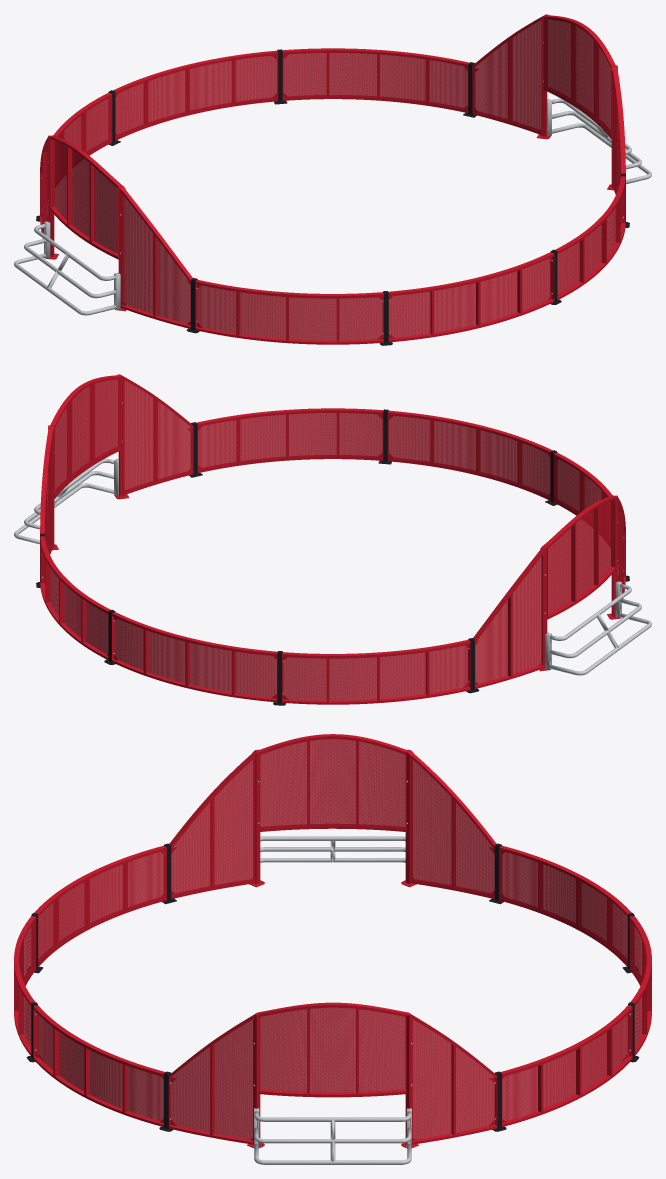
Rendered from panna-play-o1-v2.glb.
The picture shows the model from 3 angles, top to bottom: view 1: azimuth 30°, elevation 25°; view 2: azimuth 150°, elevation 25°; view 3: azimuth 270°, elevation 25°; orthographic projection. The views are drawn at different scales.
Parts seen in each view (by area): view 1: WEB_PO1_0_0_sheet, WEB_PO1_0_1_sheet, WEB_PO1_180_0_sheet, WEB_PO1_180_1_sheet, WEB_PO2L_east_sheet, WEB_PO3_east_sheet, WEB_PO2L_west_sheet, WEB_PO3_west_sheet, WEB_PO1_180_1_frame, WEB_PO1_180_0_frame, WEB_BR1_west_frame, WEB_PO3_west_frame (+13 smaller); view 2: WEB_PO1_180_2_sheet, WEB_PO1_180_1_sheet, WEB_PO1_0_2_sheet, WEB_PO1_0_1_sheet, WEB_PO2P_east_sheet, WEB_PO3_east_sheet, WEB_PO2P_west_sheet, WEB_PO3_west_sheet, WEB_PO1_0_1_frame, WEB_PO1_0_2_frame, WEB_BR1_west_frame, WEB_PO3_west_frame (+13 smaller); view 3: WEB_PO3_west_sheet, WEB_PO3_east_sheet, WEB_PO2L_west_sheet, WEB_PO2P_west_sheet, WEB_PO1_0_2_sheet, WEB_PO1_180_0_sheet, WEB_PO2L_east_sheet, WEB_PO2P_east_sheet, WEB_PO1_0_0_sheet, WEB_PO1_180_2_sheet, WEB_BR1_east_frame, WEB_PO1_180_2_frame (+14 smaller).
Boxes of the visible parts, left/top/right/bottom form: WEB_PO1_0_0_sheet: left=283, top=50, right=467, bottom=112; WEB_PO1_0_1_sheet: left=115, top=53, right=277, bottom=140; WEB_PO1_180_0_sheet: left=198, top=285, right=382, bottom=340; WEB_PO1_180_1_sheet: left=389, top=258, right=550, bottom=337; WEB_PO2L_east_sheet: left=472, top=19, right=541, bottom=134; WEB_PO3_east_sheet: left=544, top=18, right=610, bottom=135; WEB_PO2L_west_sheet: left=124, top=197, right=190, bottom=323; WEB_PO3_west_sheet: left=54, top=141, right=117, bottom=253; WEB_PO1_180_1_frame: left=388, top=252, right=554, bottom=342; WEB_PO1_180_0_frame: left=195, top=279, right=383, bottom=344; WEB_BR1_west_frame: left=14, top=221, right=120, bottom=315; WEB_PO3_west_frame: left=50, top=135, right=121, bottom=259; WEB_PO1_180_2_sheet: left=198, top=410, right=382, bottom=472; WEB_PO1_180_1_sheet: left=388, top=413, right=550, bottom=500; WEB_PO1_0_2_sheet: left=283, top=645, right=467, bottom=700; WEB_PO1_0_1_sheet: left=115, top=618, right=276, bottom=697; WEB_PO2P_east_sheet: left=124, top=379, right=193, bottom=494; WEB_PO3_east_sheet: left=55, top=378, right=121, bottom=495; WEB_PO2P_west_sheet: left=475, top=557, right=541, bottom=683; WEB_PO3_west_sheet: left=548, top=501, right=611, bottom=613; WEB_PO1_0_1_frame: left=111, top=612, right=277, bottom=702; WEB_PO1_0_2_frame: left=282, top=639, right=470, bottom=704; WEB_BR1_west_frame: left=545, top=581, right=651, bottom=675; WEB_PO3_west_frame: left=544, top=495, right=615, bottom=619; WEB_PO3_west_sheet: left=260, top=736, right=405, bottom=831; WEB_PO3_east_sheet: left=260, top=1007, right=405, bottom=1092; WEB_PO2L_west_sheet: left=171, top=757, right=255, bottom=896; WEB_PO2P_west_sheet: left=410, top=757, right=494, bottom=896; WEB_PO1_0_2_sheet: left=499, top=848, right=627, bottom=966; WEB_PO1_180_0_sheet: left=38, top=848, right=166, bottom=966; WEB_PO2L_east_sheet: left=413, top=1019, right=494, bottom=1139; WEB_PO2P_east_sheet: left=171, top=1019, right=252, bottom=1139; WEB_PO1_0_0_sheet: left=502, top=1014, right=627, bottom=1121; WEB_PO1_180_2_sheet: left=38, top=1014, right=163, bottom=1121; WEB_BR1_east_frame: left=254, top=1108, right=411, bottom=1164; WEB_PO1_180_2_frame: left=33, top=1005, right=165, bottom=1126.
Size of the model in its own units: 6.83 by 1.52 by 6.05.
Materials: 4 (1 with a texture image).
